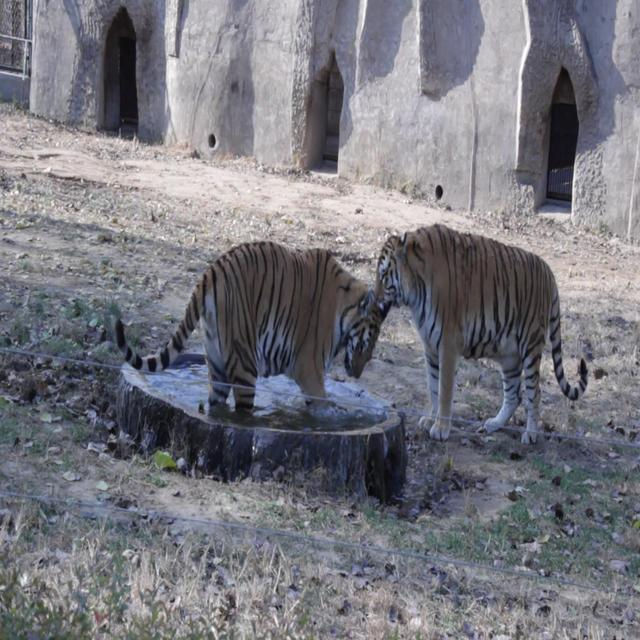tiger: (347, 221, 588, 445), (107, 238, 387, 415)
